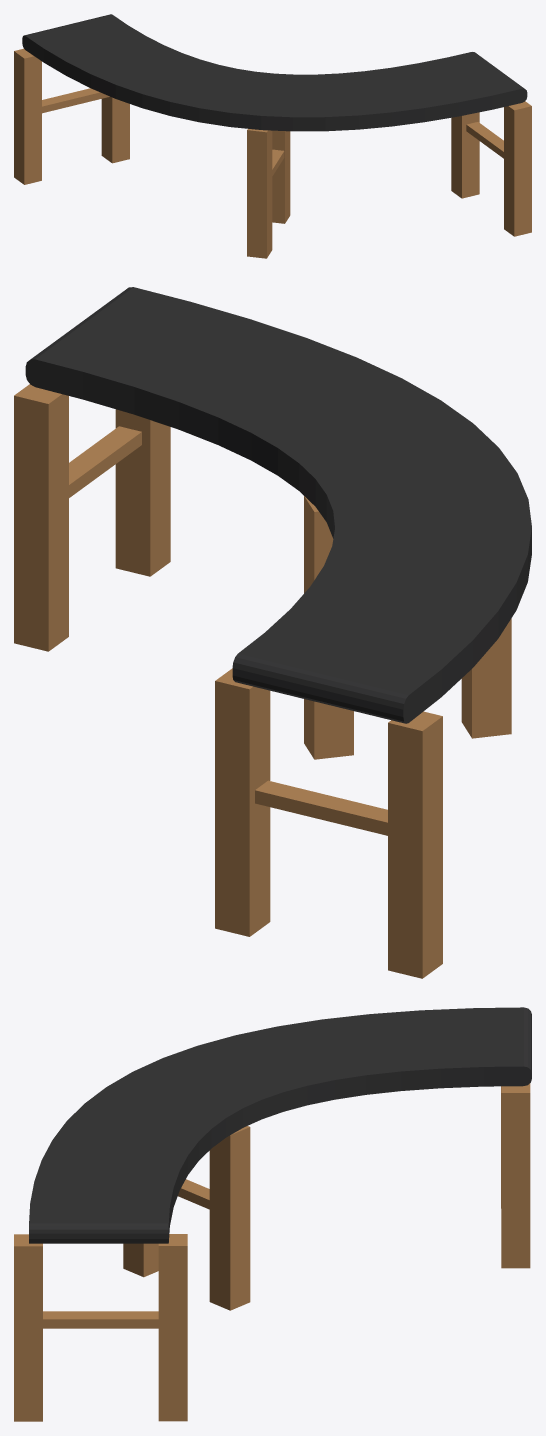
The model's file is cb_curved.glb.
3 views of the same model, one above another, from view 1: azimuth 30°, elevation 25°; view 2: azimuth 150°, elevation 25°; view 3: azimuth 270°, elevation 25° (orthographic). The views are drawn at different scales.
Visible parts, largest first — view 1: Cube.028, Cube.024, Cube.025, Cube.026, Cube.023, Cube.021, Cube.022, Cube.015, Cube.017; view 2: Cube.028, Cube.023, Cube.025, Cube.021, Cube.024, Cube.022, Cube.026, Cube.015, Cube.017; view 3: Cube.028, Cube.022, Cube.023, Cube.021, Cube.024, Cube.017, Cube.026, Cube.016.
Part boxes in pixels (box(x1,y1,x2,y2)): Cube.028: box(22, 14, 527, 131); Cube.024: box(504, 101, 531, 236); Cube.025: box(14, 48, 41, 184); Cube.026: box(247, 129, 272, 258); Cube.023: box(451, 112, 479, 198); Cube.021: box(101, 96, 129, 163); Cube.022: box(272, 130, 290, 223); Cube.015: box(42, 88, 109, 113); Cube.017: box(466, 122, 503, 158); Cube.028: box(25, 287, 531, 723); Cube.023: box(14, 384, 68, 651); Cube.025: box(388, 711, 442, 978); Cube.021: box(215, 668, 270, 936); Cube.024: box(115, 409, 170, 576); Cube.022: box(304, 496, 353, 759); Cube.026: box(461, 618, 511, 738); Cube.015: box(255, 780, 387, 835); Cube.017: box(69, 426, 141, 497); Cube.028: box(29, 1007, 531, 1243); Cube.022: box(209, 1126, 250, 1310); Cube.023: box(158, 1234, 187, 1421); Cube.021: box(501, 1083, 530, 1268); Cube.024: box(14, 1234, 42, 1421); Cube.017: box(43, 1311, 158, 1328); Cube.026: box(123, 1243, 158, 1277); Cube.016: box(178, 1179, 209, 1209).
Bounding box in the file's own units: 2.65 × 1.07 × 2.58.
